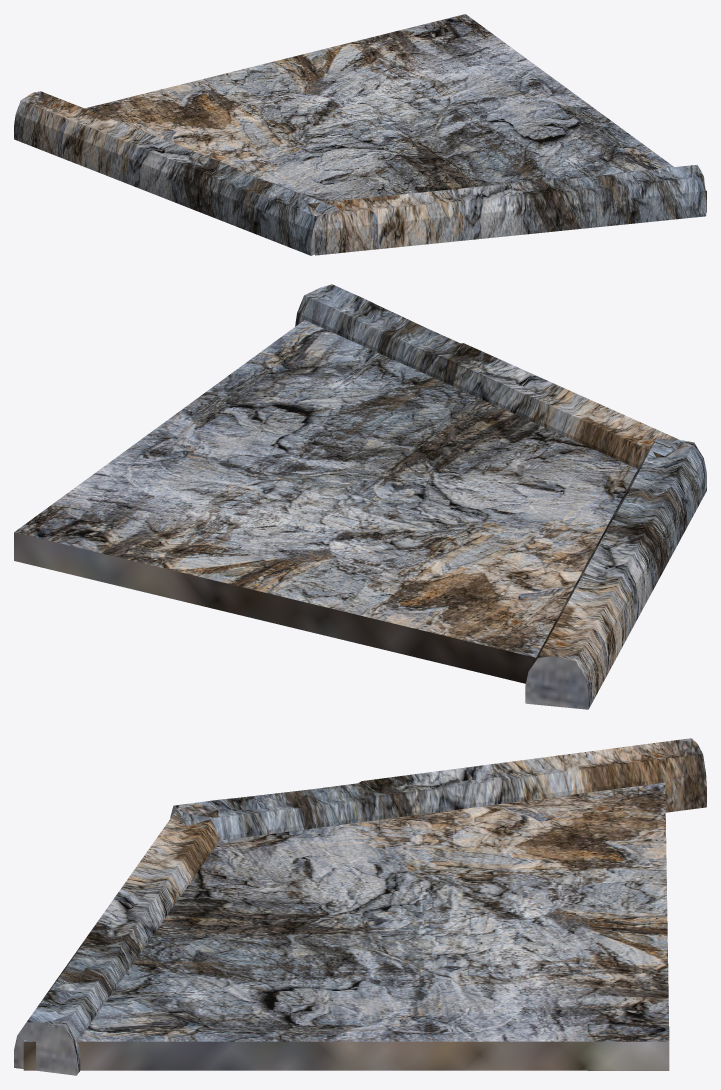
Rendered from Canto.FBX.
The picture shows the model from 3 angles, top to bottom: view 1: azimuth 30°, elevation 25°; view 2: azimuth 150°, elevation 25°; view 3: azimuth 270°, elevation 25°; orthographic projection. The views are drawn at different scales.
Parts seen in each view (by area): view 1: Box010, Box009, Box008; view 2: Box010, Box008, Box009; view 3: Box010, Box008, Box009.
Part boxes in pixels (bbox=[...]): Box010: bbox=[85, 14, 706, 212]; Box009: bbox=[306, 165, 706, 255]; Box008: bbox=[14, 91, 338, 255]; Box010: bbox=[14, 320, 637, 683]; Box008: bbox=[525, 439, 706, 709]; Box009: bbox=[295, 284, 694, 468]; Box010: bbox=[23, 782, 669, 1070]; Box008: bbox=[170, 738, 706, 840]; Box009: bbox=[14, 804, 219, 1075].
Size of the model in its own units: 43.49 by 3.57 by 43.15.
Materials: 1 (1 with a texture image).
